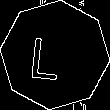L_N: (37, 29, 73, 81)
